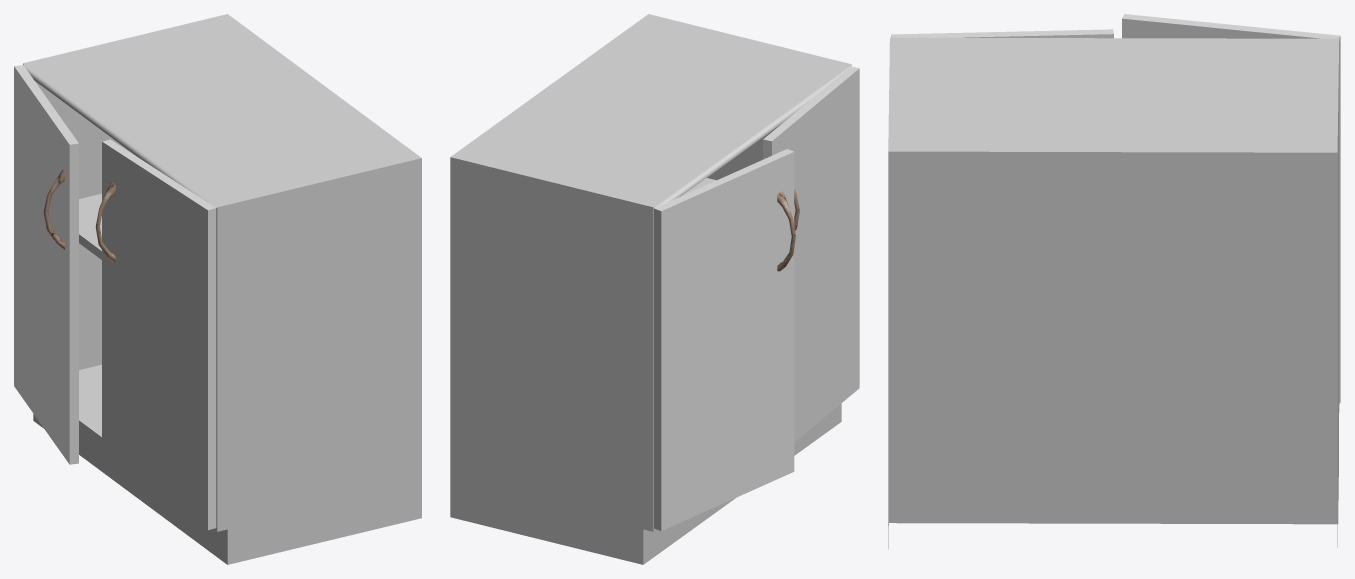
The model's file is mini-cabinet-1.glb.
3 renders of one model, left to right at view 1: azimuth 30°, elevation 25°; view 2: azimuth 150°, elevation 25°; view 3: azimuth 270°, elevation 25°, orthographic. The views are drawn at different scales.
Visible parts, largest first — view 1: Object025_wood_0, Object024_wood_0, Object026_wood_0; view 2: Object025_wood_0, Object026_wood_0, Object024_wood_0, handle-1; view 3: Object025_wood_0, Object026_wood_0, Object024_wood_0.
Boxes of the visible parts, <box> form: Object025_wood_0: <box>23,14,421,564</box>; Object024_wood_0: <box>102,139,216,530</box>; Object026_wood_0: <box>14,65,78,464</box>; Object025_wood_0: <box>450,14,851,564</box>; Object026_wood_0: <box>654,149,794,531</box>; Object024_wood_0: <box>763,66,859,442</box>; handle-1: <box>777,191,795,271</box>; Object025_wood_0: <box>888,37,1339,549</box>; Object026_wood_0: <box>1122,14,1340,403</box>; Object024_wood_0: <box>891,29,1113,38</box>.
Bounding box in the file's own units: 0.779 × 1.01 × 1.01.
Materials: 3 (1 with a texture image).
